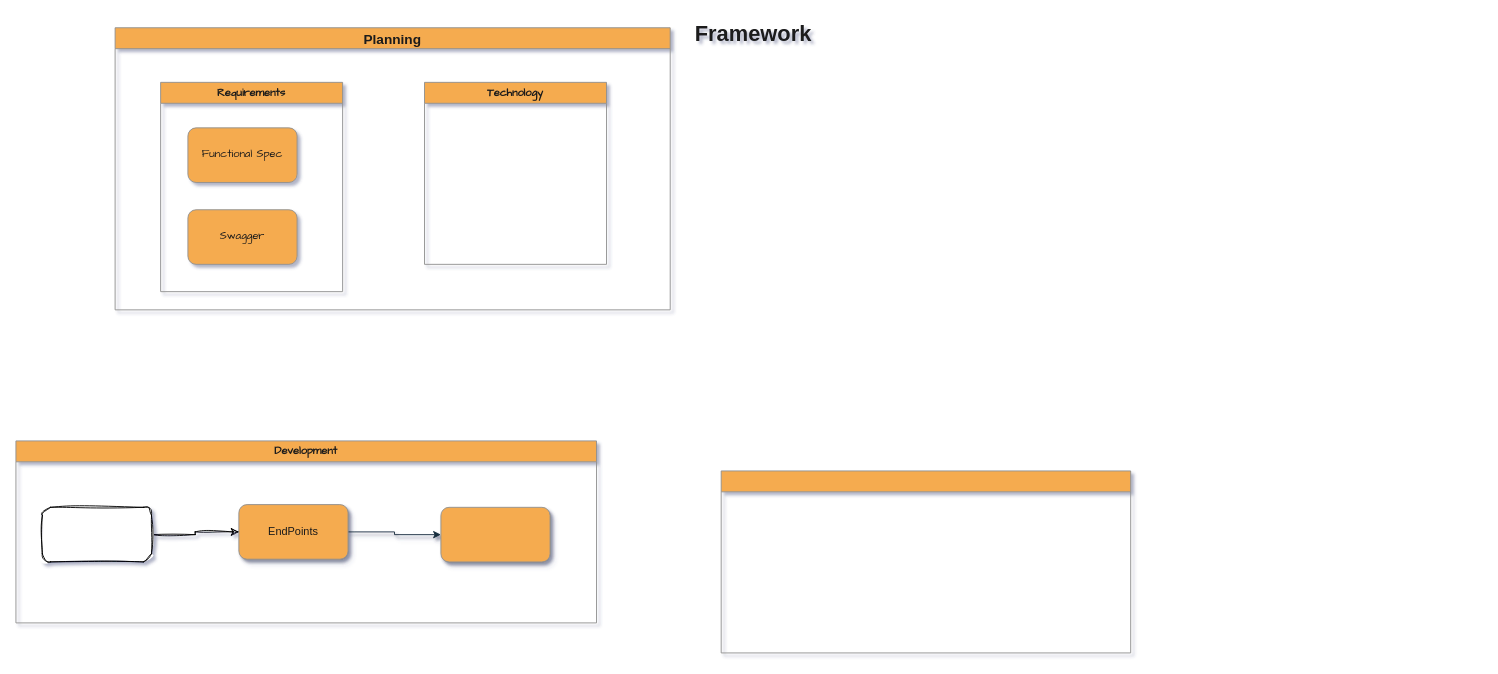
This 1498x674 diagram has some shape labels left out. Here are the shapes that lost their labels. From the top down, the centre of each, then its label:
the point at 96,534: Setup Environment
the point at 496,535: Test Cases
the point at 925,561: Execution
